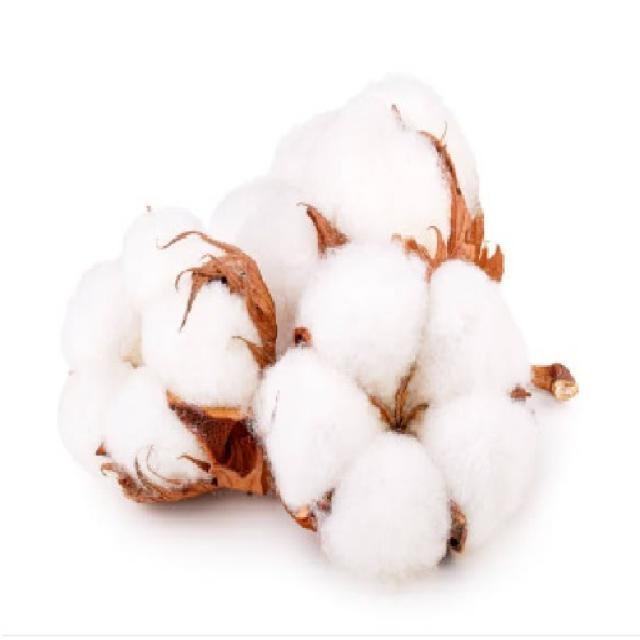Matured Cotton Boll: (248, 234, 554, 584), (205, 61, 484, 371), (56, 193, 284, 505)
